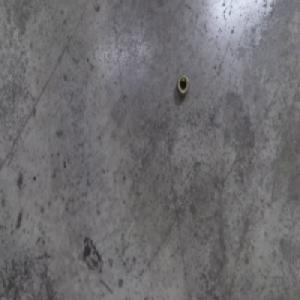Nut: (176, 73, 189, 96)
